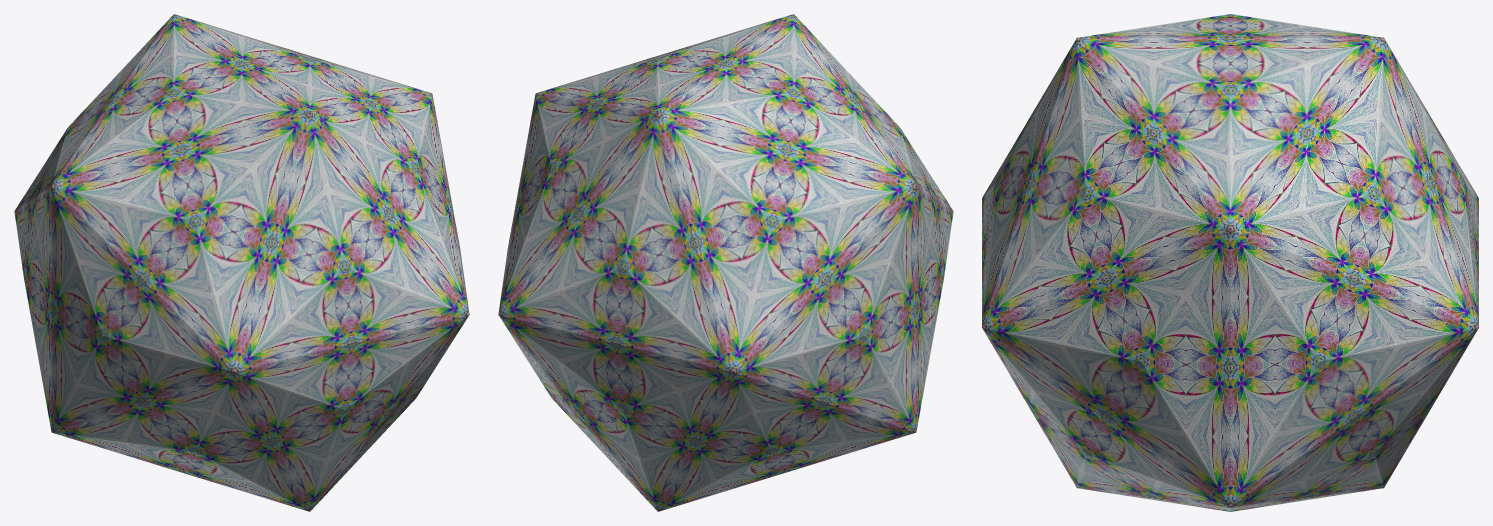
Rendered from TriakisIcosahedron6.obj.
3 views of the same model, side by side, from view 1: azimuth 30°, elevation 25°; view 2: azimuth 150°, elevation 25°; view 3: azimuth 270°, elevation 25° (orthographic). The views are drawn at different scales.
Size of the model in its own units: 5.85 by 5.85 by 5.85.
Materials: 1 (1 with a texture image).
